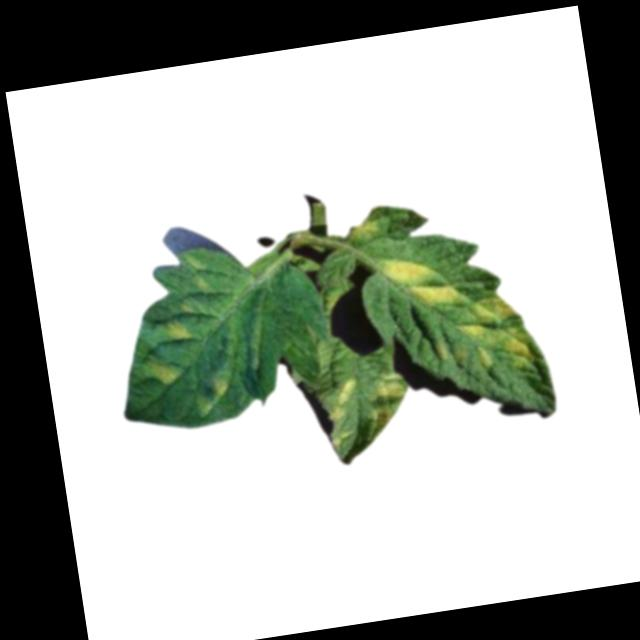Leaf_Mold: (449, 291, 533, 386), (376, 251, 459, 316), (361, 370, 415, 436), (321, 375, 364, 446), (146, 357, 181, 389), (345, 216, 383, 245), (206, 372, 233, 402), (161, 316, 189, 344)
